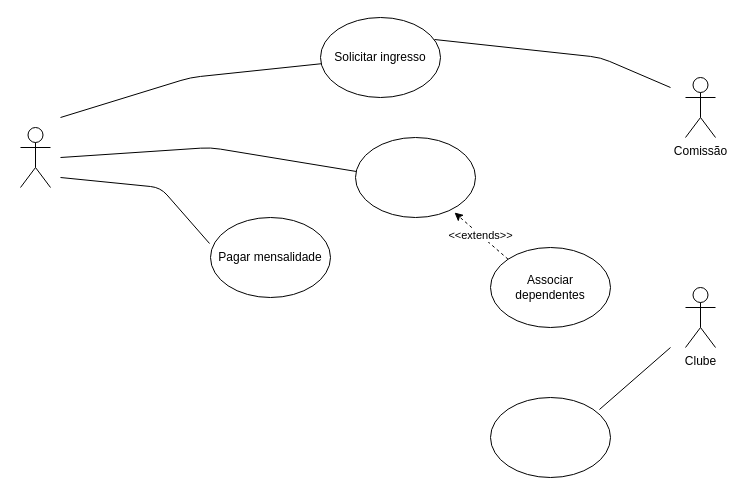
Some shapes in this 744 by 495 pixel diagram are drawn without their labels. Each missing label, with the box of its shape:
Cliente: (20, 126, 50, 188)
Gerar Mensalidade: (490, 396, 610, 478)
Ingressar no clube: (354, 136, 476, 218)
